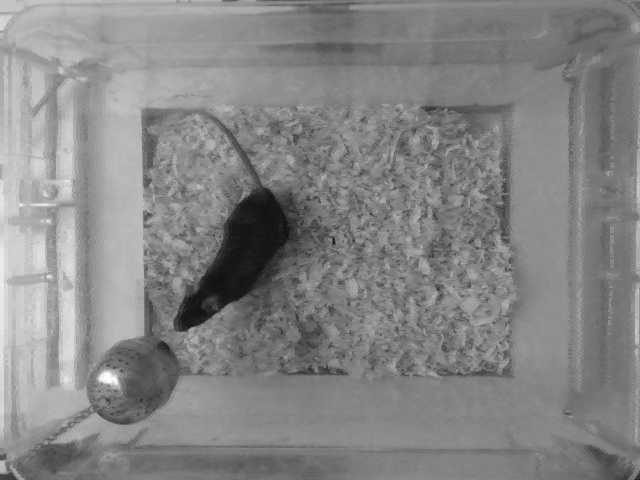mice: (175, 105, 299, 337)
